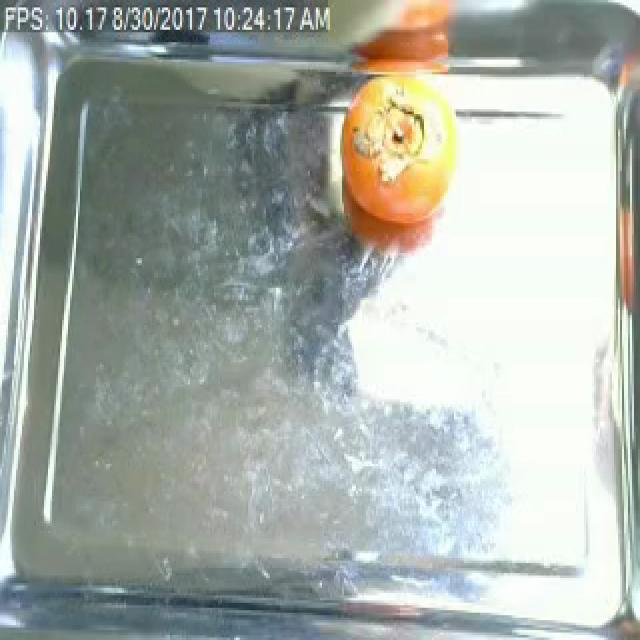Fruit: (336, 67, 452, 268)
